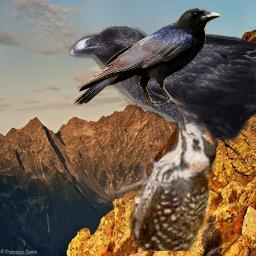Crow: (69, 25, 256, 208), (73, 6, 221, 106)
Woodpecker: (113, 96, 216, 251)
